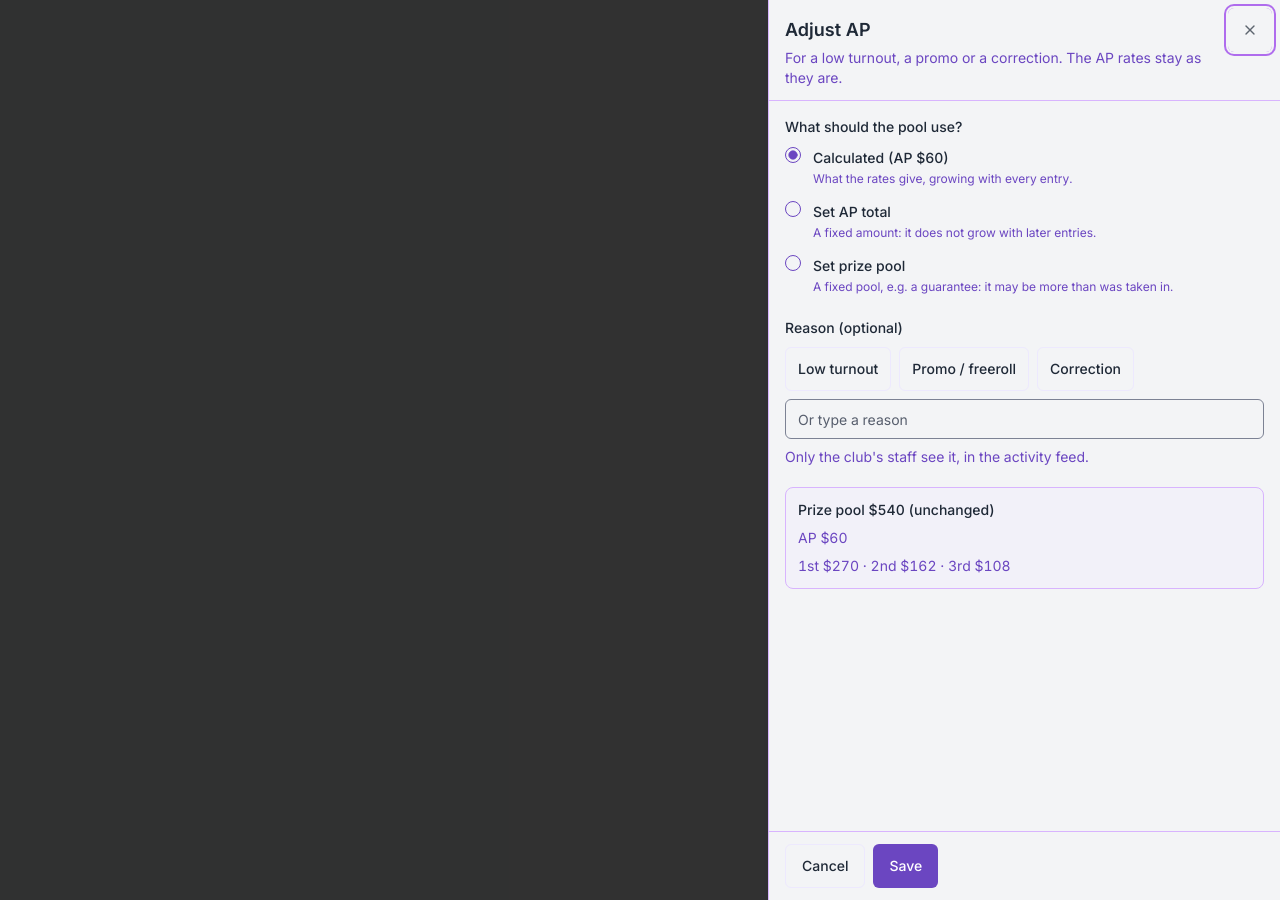
Test: ApAdjustDialog › fixes the AP total for a low turnout, showing what it pays first, and shows the answer at once
The image size is (1280, 900).
Expected: the radio button named "Calculated (AP $60)" next to "Calculated (AP $60)" is checked, x1=785 y1=147 x2=801 y2=163
Expected: the text with test id "preview-pool" reads "Prize pool $540 (unchanged)", x1=798 y1=501 x2=995 y2=518
Click the radio button named "Set AP total" next to "Set AP total" at (793, 209), box x1=785 y1=201 x2=801 y2=217
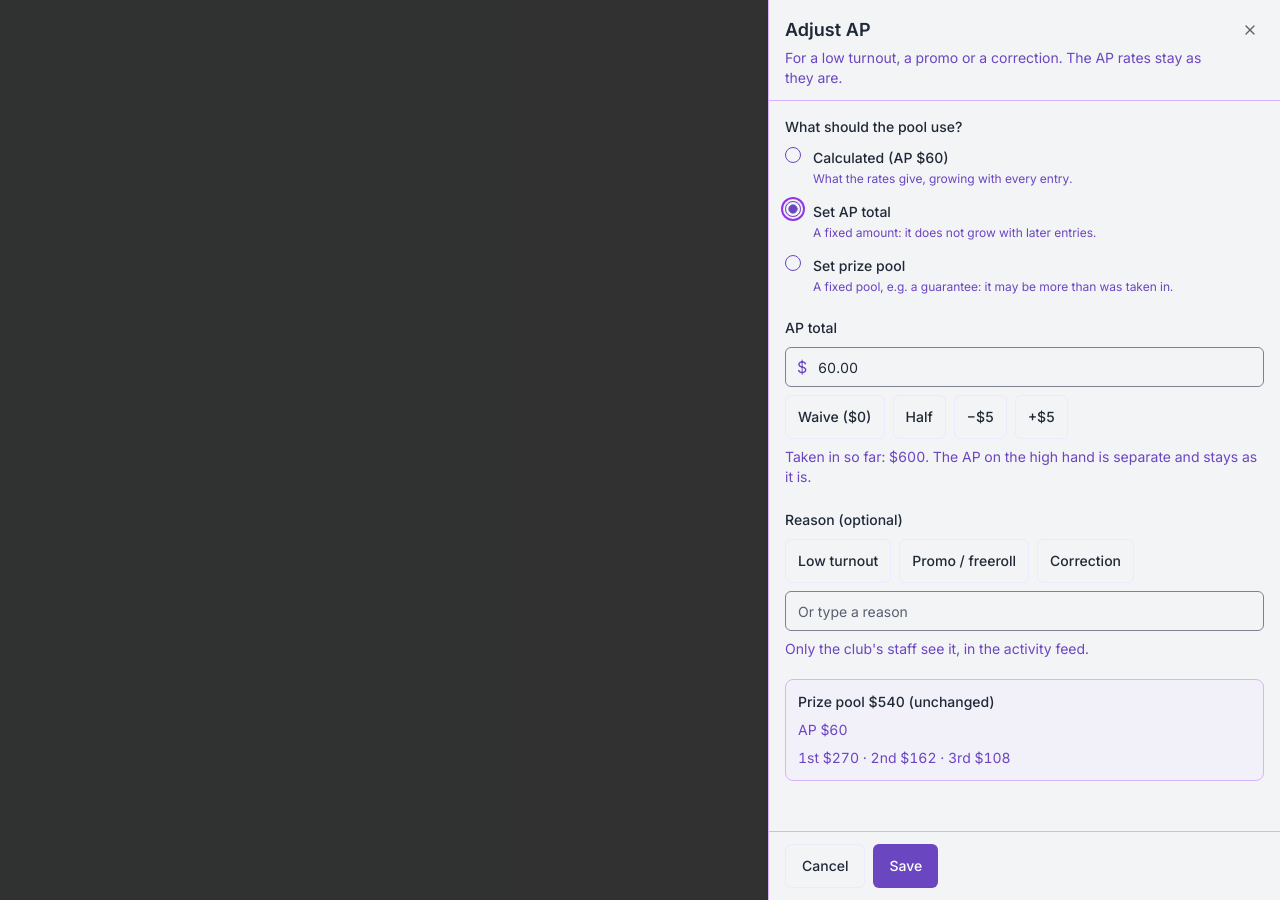
Result: the field labelled "AP total" holds "60.00"
Replace the text in the field with test id "adjust-amount" with "20" at (1024, 367), box x1=785 y1=347 x2=1264 y2=387
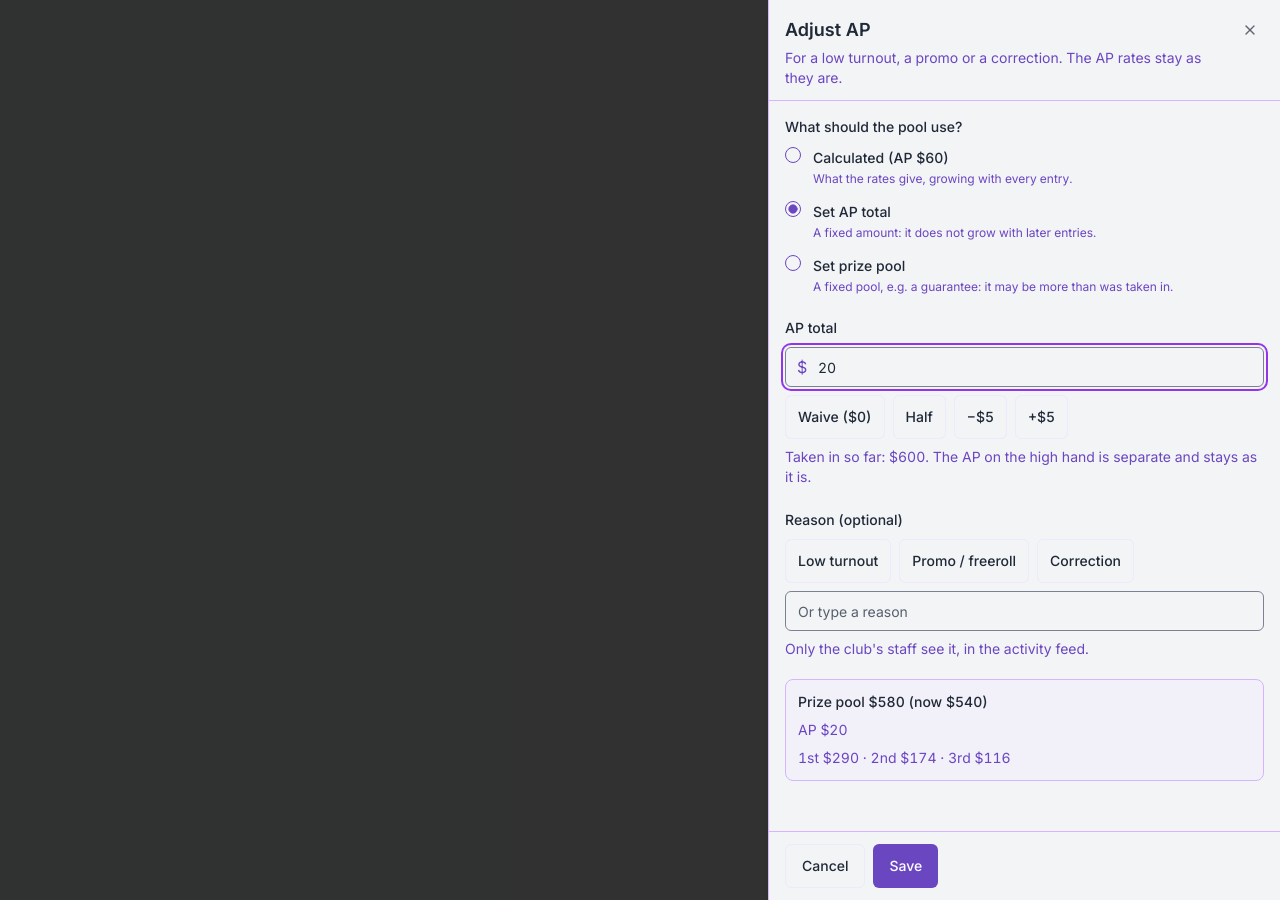
Result: the text with test id "preview-pool" reads "Prize pool $580 (now $540)" at x1=798 y1=693 x2=988 y2=710
Result: the text with test id "preview-ap" reads "AP $20" at x1=798 y1=721 x2=848 y2=738
Result: the text with test id "preview-places" reads "1st $290 · 2nd $174 · 3rd $116" at x1=798 y1=749 x2=1011 y2=766
Click the button "Low turnout" at (838, 561), box x1=785 y1=539 x2=891 y2=583
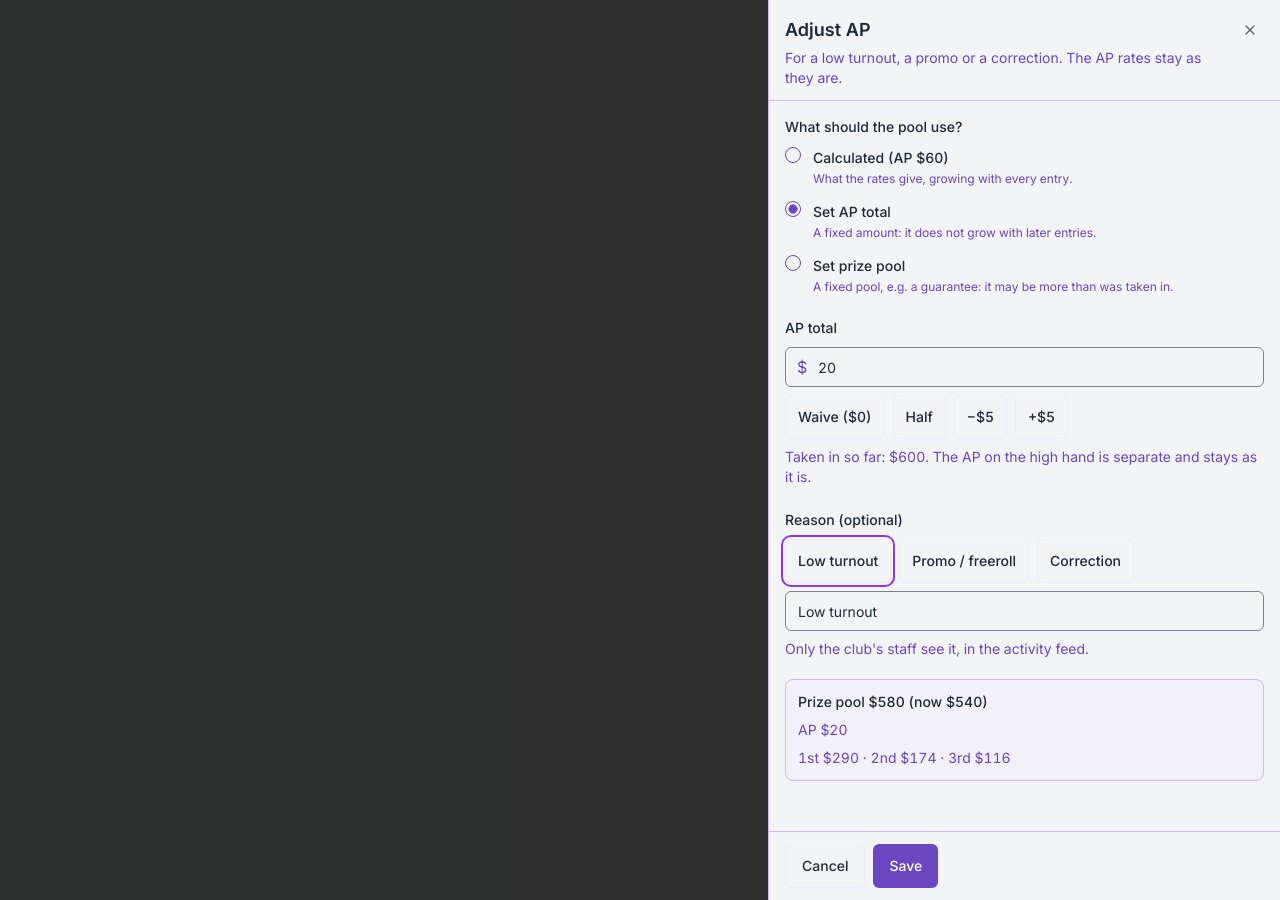
Expected: the text "Only the club's staff see it, in the activity feed." is shown, x1=785 y1=640 x2=1089 y2=657
Result: the field labelled "Reason (optional)" holds "Low turnout" at x1=785 y1=591 x2=1264 y2=631
Click the button "Save" at (906, 866), box x1=874 y1=844 x2=938 y2=888
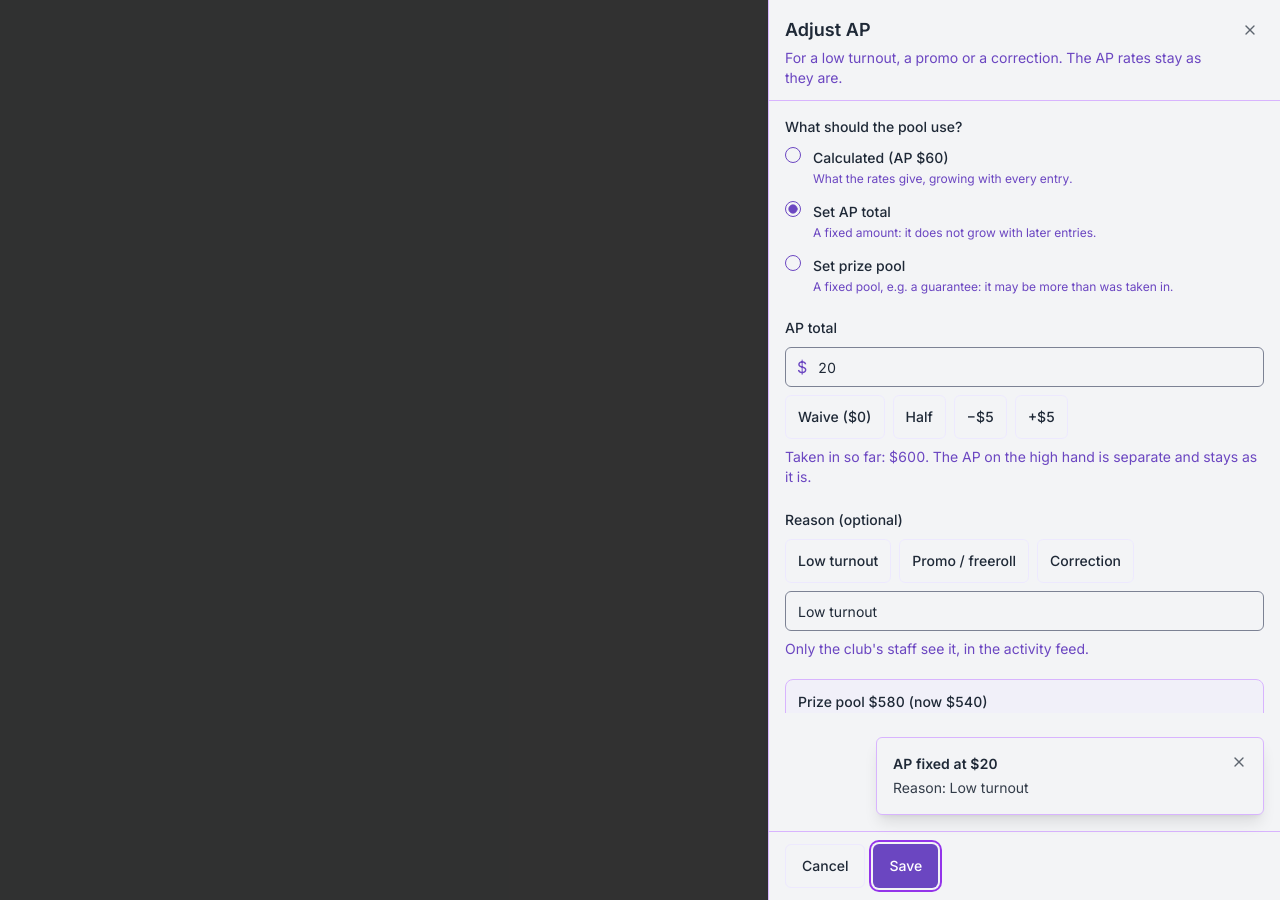
Result: the text "AP fixed at $20" is shown at x1=893 y1=755 x2=998 y2=772
